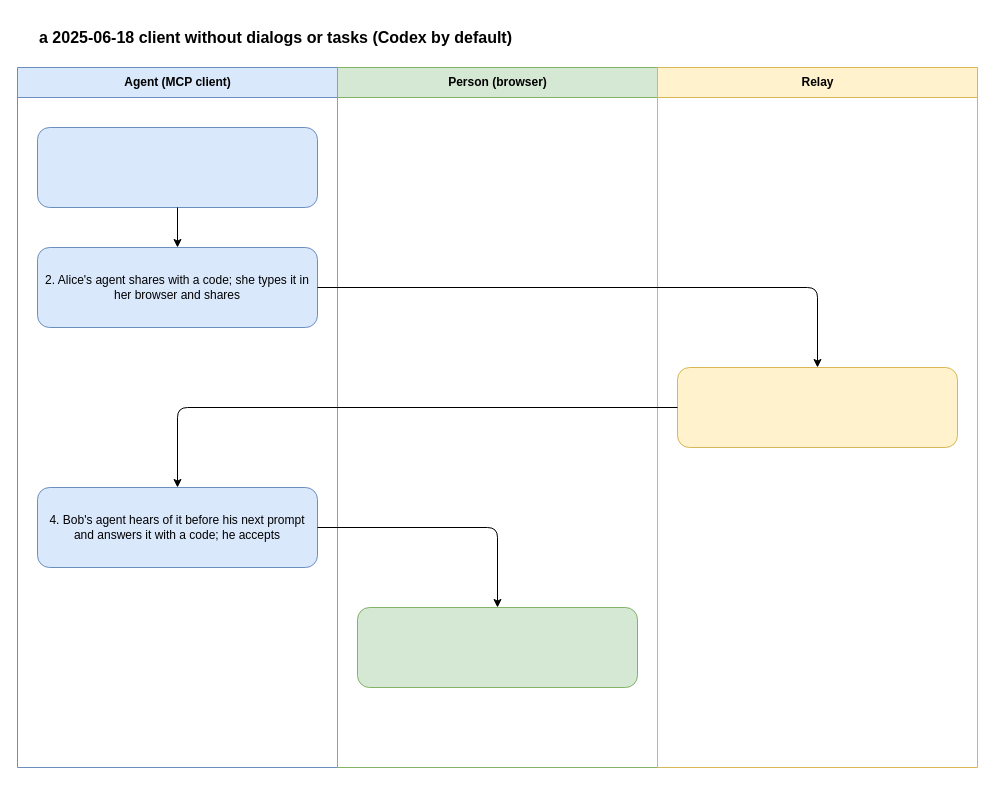
Image size: 995x785. Some labels were removed from this diagram. The shapes that lost their labels are listed below. From the top down, each one's centre as x and y in pixels, then its label:
(x=177, y=167): 1. the agent connects on 2025-06-18 and sees every Klatsch tool
(x=817, y=407): 3. she finds the match and asks for an intro, again with a code
(x=497, y=647): 5. watch answers plainly: the human is reminded when they next type
